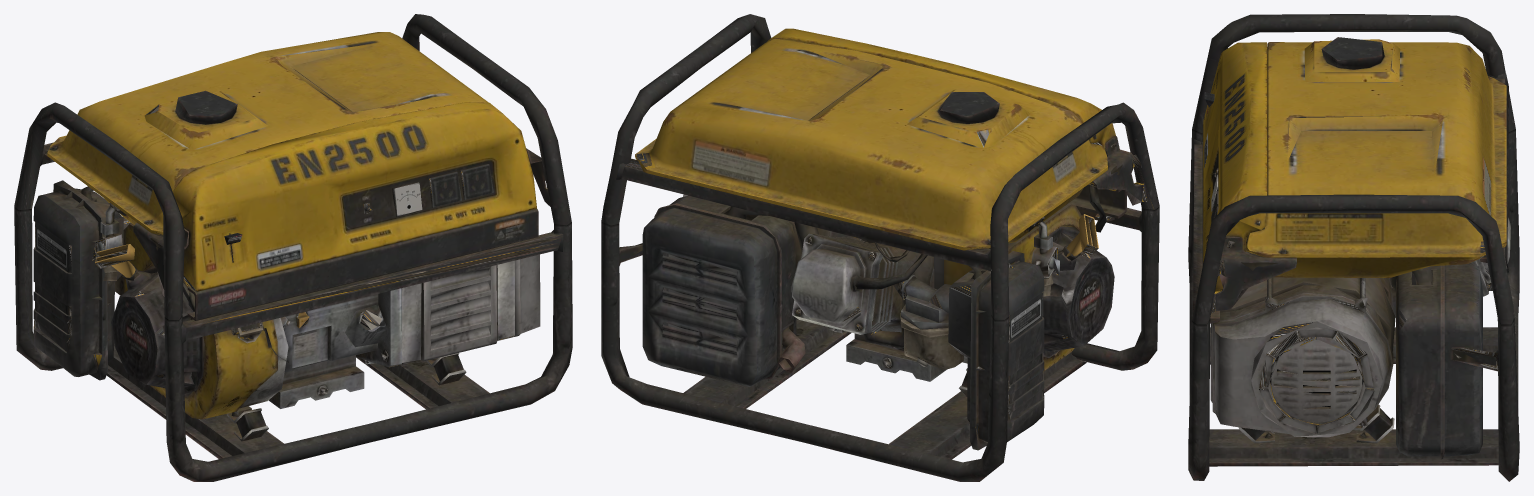
Rendered from portable_generator.glb.
The picture shows the model from 3 angles, left to right: view 1: azimuth 30°, elevation 25°; view 2: azimuth 150°, elevation 25°; view 3: azimuth 270°, elevation 25°; orthographic projection.
Visible parts, largest first — view 1: generator_LOD0; view 2: generator_LOD0; view 3: generator_LOD0.
Part boxes in pixels (x1,y1,x2,y2): generator_LOD0: (14,14,572,481); generator_LOD0: (601,14,1159,481); generator_LOD0: (1188,14,1519,481).
Size of what is drawn, in the model's own units: 0.8176 by 0.5769 by 0.564.
Materials: 1 (1 with a texture image).
